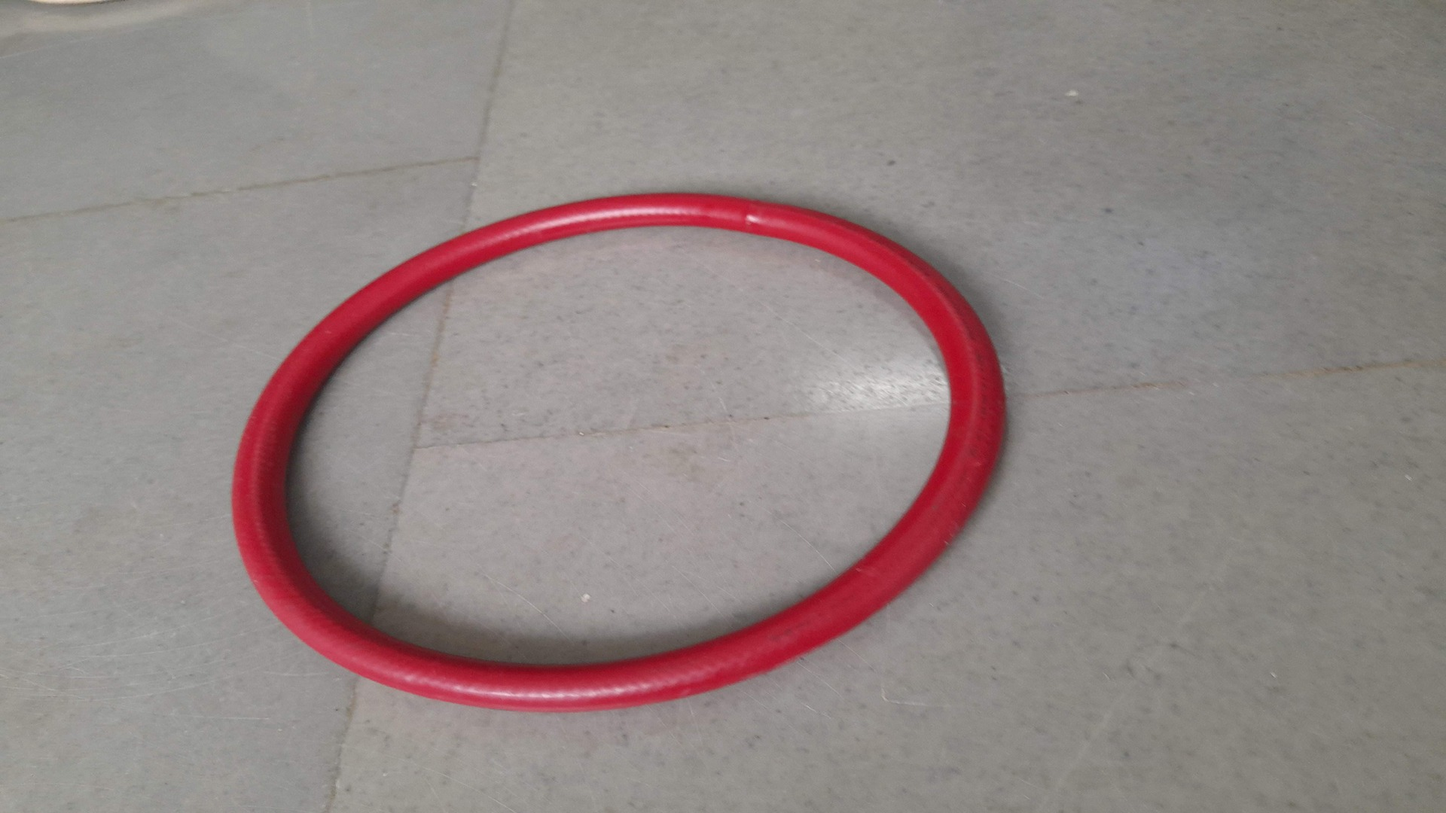Red ring: (229, 194, 1008, 707)
